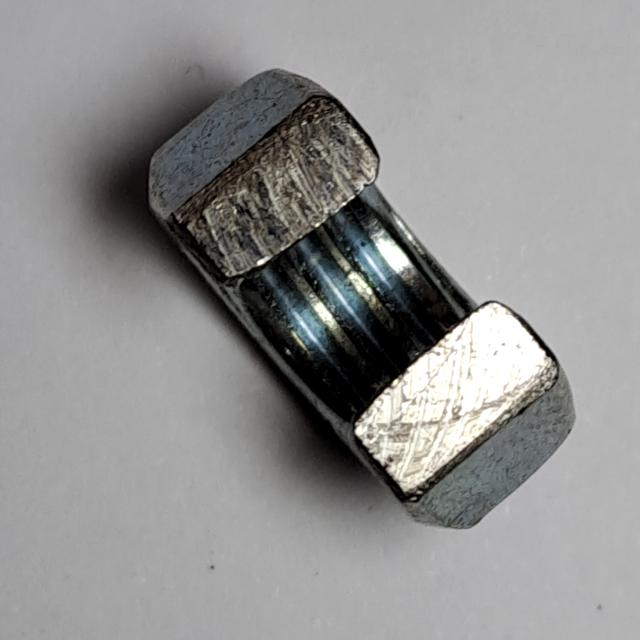Side-Fracture: (134, 55, 594, 542)
